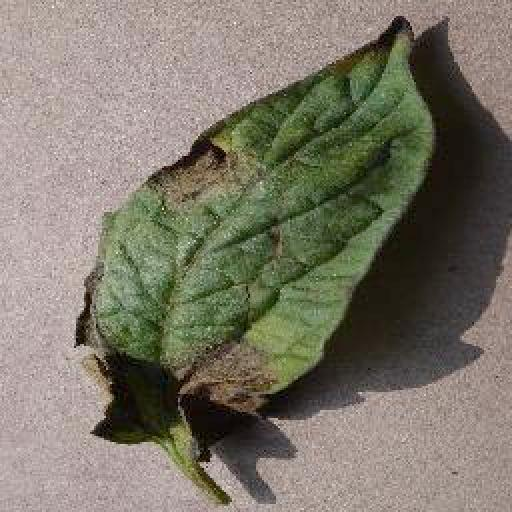disease_tomato: (77, 14, 435, 460)
